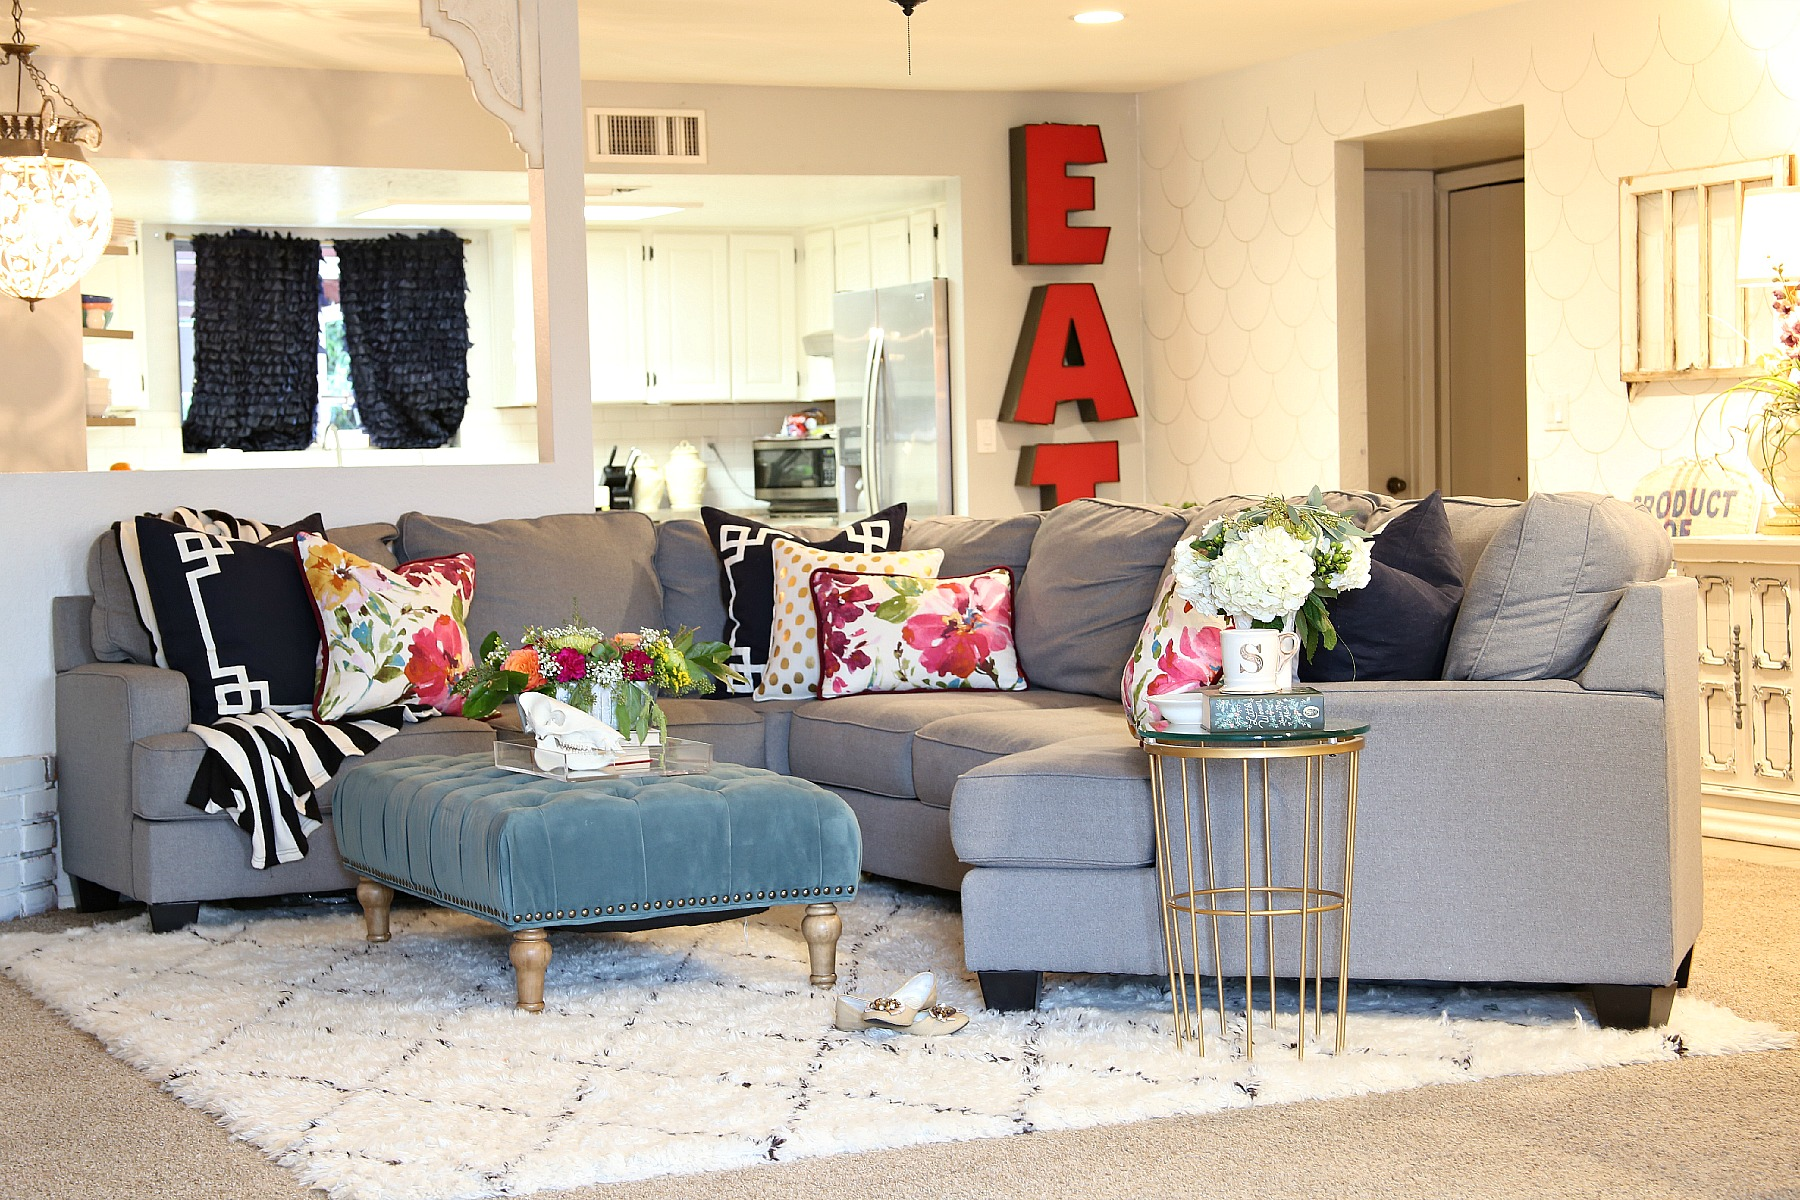hijau: (346, 762, 858, 913)
hitam: (149, 521, 323, 707), (197, 237, 317, 435), (354, 238, 473, 437)
merah: (996, 284, 1129, 431), (1010, 117, 1109, 281), (1008, 443, 1138, 510)
putih: (1219, 528, 1298, 672)
